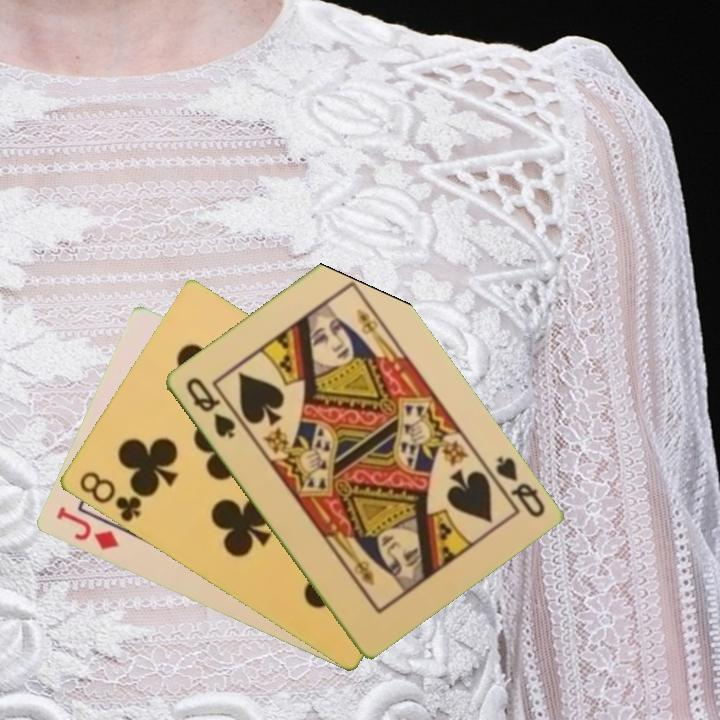8c: (75, 468, 144, 525)
Jd: (51, 503, 121, 554)
Qs: (481, 452, 548, 521), (181, 373, 238, 441)
